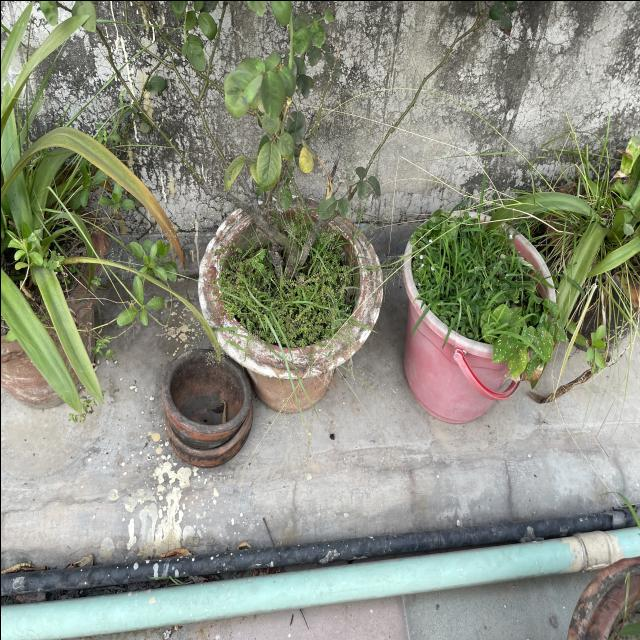Breeding Place: (207, 210, 379, 408), (402, 210, 550, 417), (0, 156, 112, 408), (161, 352, 250, 462)
